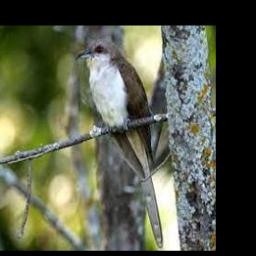Cuckoo: (75, 39, 163, 248)
